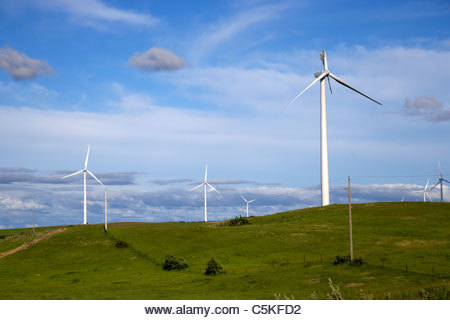faulty: (280, 48, 388, 114)
working: (58, 142, 106, 194), (188, 162, 224, 206)
